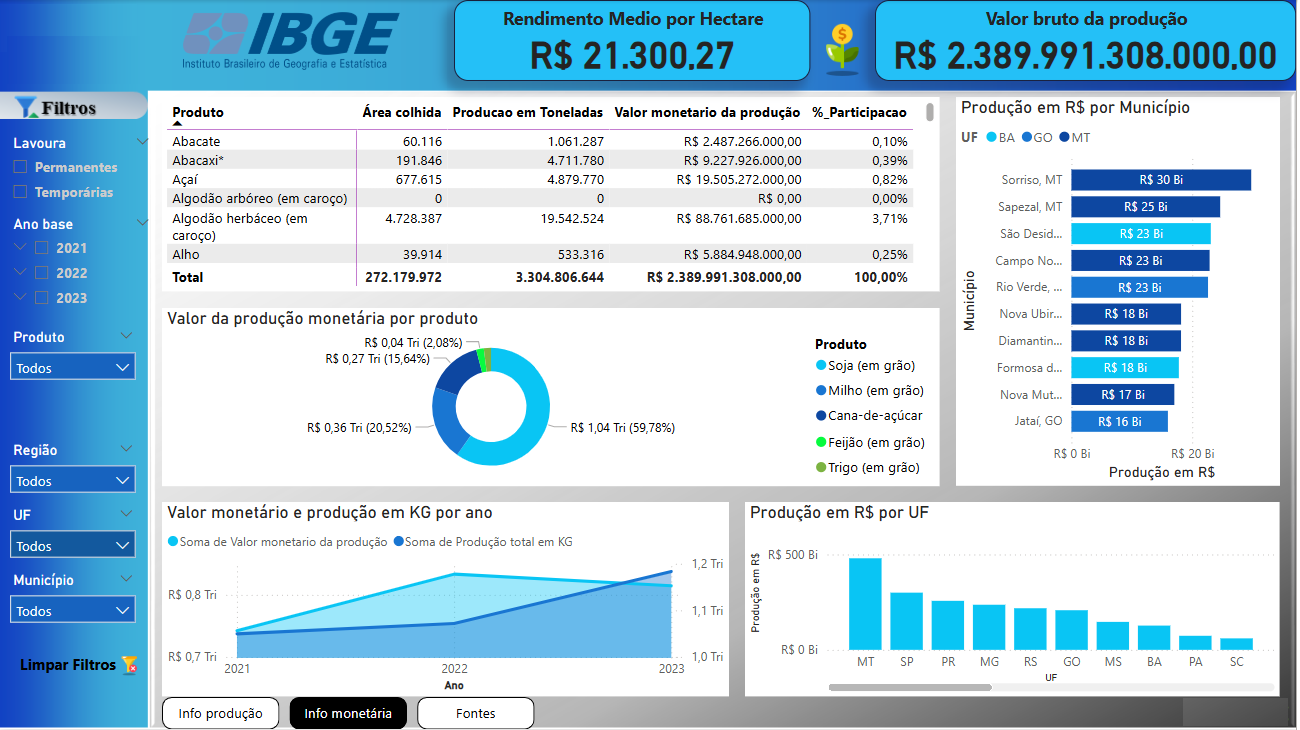

This screenshot's page, from the dashboard's own definition file:
{"tool":"powerbi","page":{"name":"Info monetária","canvas":[1280,720],"ordinal":1},"visuals":[{"type":"columnChart","title":"Produção em R$ por UF ","fields":{"Category":["Sheet1.UF"],"Y":["Sum(Sheet1.Valor monetario da produção)"]},"box":[728,495.7,536.5,192.4],"z":0},{"type":"pageNavigator","box":[160,688,368,32],"z":1000},{"type":"barChart","title":"Produção em R$ por Município","fields":{"Category":["Sheet1.Municipios_UF"],"Y":["Sum(Sheet1.Valor monetario da produção)"],"Series":["Sheet1.UF"]},"box":[944,96,320,384],"z":2000},{"type":"actionButton","box":[160,688,112,32],"z":3000},{"type":"donutChart","title":"Valor da produção monetária por produto","fields":{"Category":["Sheet1.Produto"],"Y":["Sum(Sheet1.Valor monetario da produção)"]},"box":[160,304,768,176],"z":4000},{"type":"actionButton","box":[416,688,112,32],"z":5000},{"type":"areaChart","title":"Valor monetário e produção em KG por ano   ","fields":{"Category":["Sheet1.Ano.1.Variation.Hierarquia de datas.Ano"],"Y":["Sum(Sheet1.Valor monetario da produção)"],"Y2":["Sum(Sheet1.Produção total em KG)"]},"box":[160,496,560,192],"z":6000},{"type":"card","title":"Valor bruto da produção","fields":{"Values":["Sum(Sheet1.Valor monetario da produção)"]},"box":[864,0,416,80],"z":7000},{"type":"image","box":[800,0,64,96],"z":8000},{"type":"slicer","fields":{"Values":["RegioesBrasil.Regiao"]},"box":[0,432,144,64],"z":9000},{"type":"slicer","fields":{"Values":["Sheet1.UF"]},"box":[0,496,144,64],"z":10000},{"type":"slicer","fields":{"Values":["Sheet1.Nome_Município"]},"box":[0,560,144,64],"z":11000},{"type":"slicer","fields":{"Values":["Sheet1.Lavoura"]},"box":[0,128,160,96],"z":12000},{"type":"slicer","fields":{"Values":["Sheet1.Ano.1","Sheet1.Valor monetario da produção"]},"box":[0,208,160,128],"z":13000},{"type":"slicer","fields":{"Values":["Sheet1.Produto"]},"box":[0,320,144,64],"z":14000},{"type":"actionButton","box":[16,640,112,32],"z":15000},{"type":"image","box":[112,640,32,32],"z":16000},{"type":"pivotTable","fields":{"Values":["Sum(Sheet1.Área colhida)","Sum(Sheet1.Producao_total_toneladas)","Sum(Sheet1.Valor monetario da produção)","Sheet1.%_Participacao"],"Rows":["Sheet1.Produto"]},"box":[160,96,768,192],"z":17000},{"type":"image","box":[176,0,224,80],"z":18000},{"type":"card","title":"Rendimento Medio por Hectare","fields":{"Values":["Avg(Sheet1.Produção_monetaria_por_hectare)"]},"box":[448,0,352,80],"z":19000}]}

Visuals, with their boxes in screenshot pixels (x1, y1, x2, y2), scaled from the page's 1280x720 canvas onto the 1300x730 screenshot:
"Produção em R$ por UF " columnChart: [739, 503, 1284, 698]
pageNavigator: [162, 698, 536, 729]
"Produção em R$ por Município" barChart: [959, 97, 1284, 487]
actionButton: [162, 698, 276, 729]
"Valor da produção monetária por produto" donutChart: [162, 308, 942, 487]
actionButton: [422, 698, 536, 729]
"Valor monetário e produção em KG por ano   " areaChart: [162, 503, 731, 698]
"Valor bruto da produção" card: [878, 0, 1299, 81]
image: [812, 0, 878, 97]
slicer - RegioesBrasil.Regiao: [0, 438, 146, 503]
slicer - Sheet1.UF: [0, 503, 146, 568]
slicer - Sheet1.Nome_Município: [0, 568, 146, 633]
slicer - Sheet1.Lavoura: [0, 130, 162, 227]
slicer - Sheet1.Ano.1 x Sheet1.Valor monetario da produção: [0, 211, 162, 341]
slicer - Sheet1.Produto: [0, 324, 146, 389]
actionButton: [16, 649, 130, 681]
image: [114, 649, 146, 681]
pivotTable - Sum(Sheet1.Área colhida) x Sum(Sheet1.Producao_total_toneladas): [162, 97, 942, 292]
image: [179, 0, 406, 81]
"Rendimento Medio por Hectare" card: [455, 0, 812, 81]
